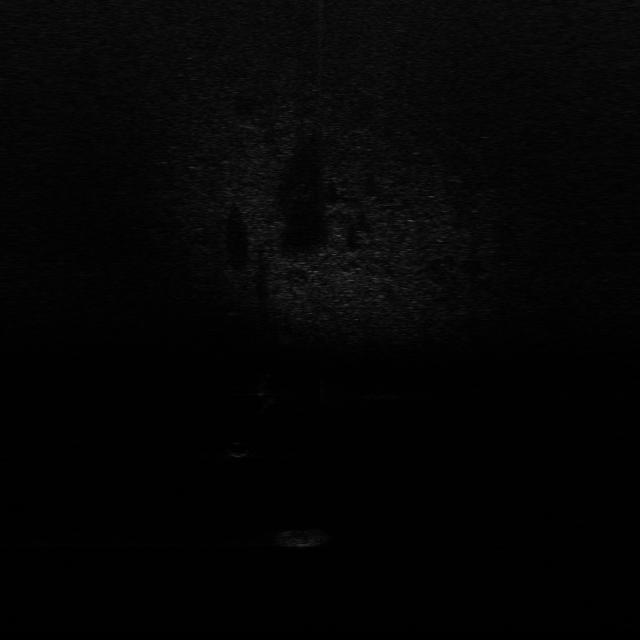ball: (227, 440, 253, 457)
circle cage: (272, 521, 337, 551)
human body: (258, 372, 278, 414)
